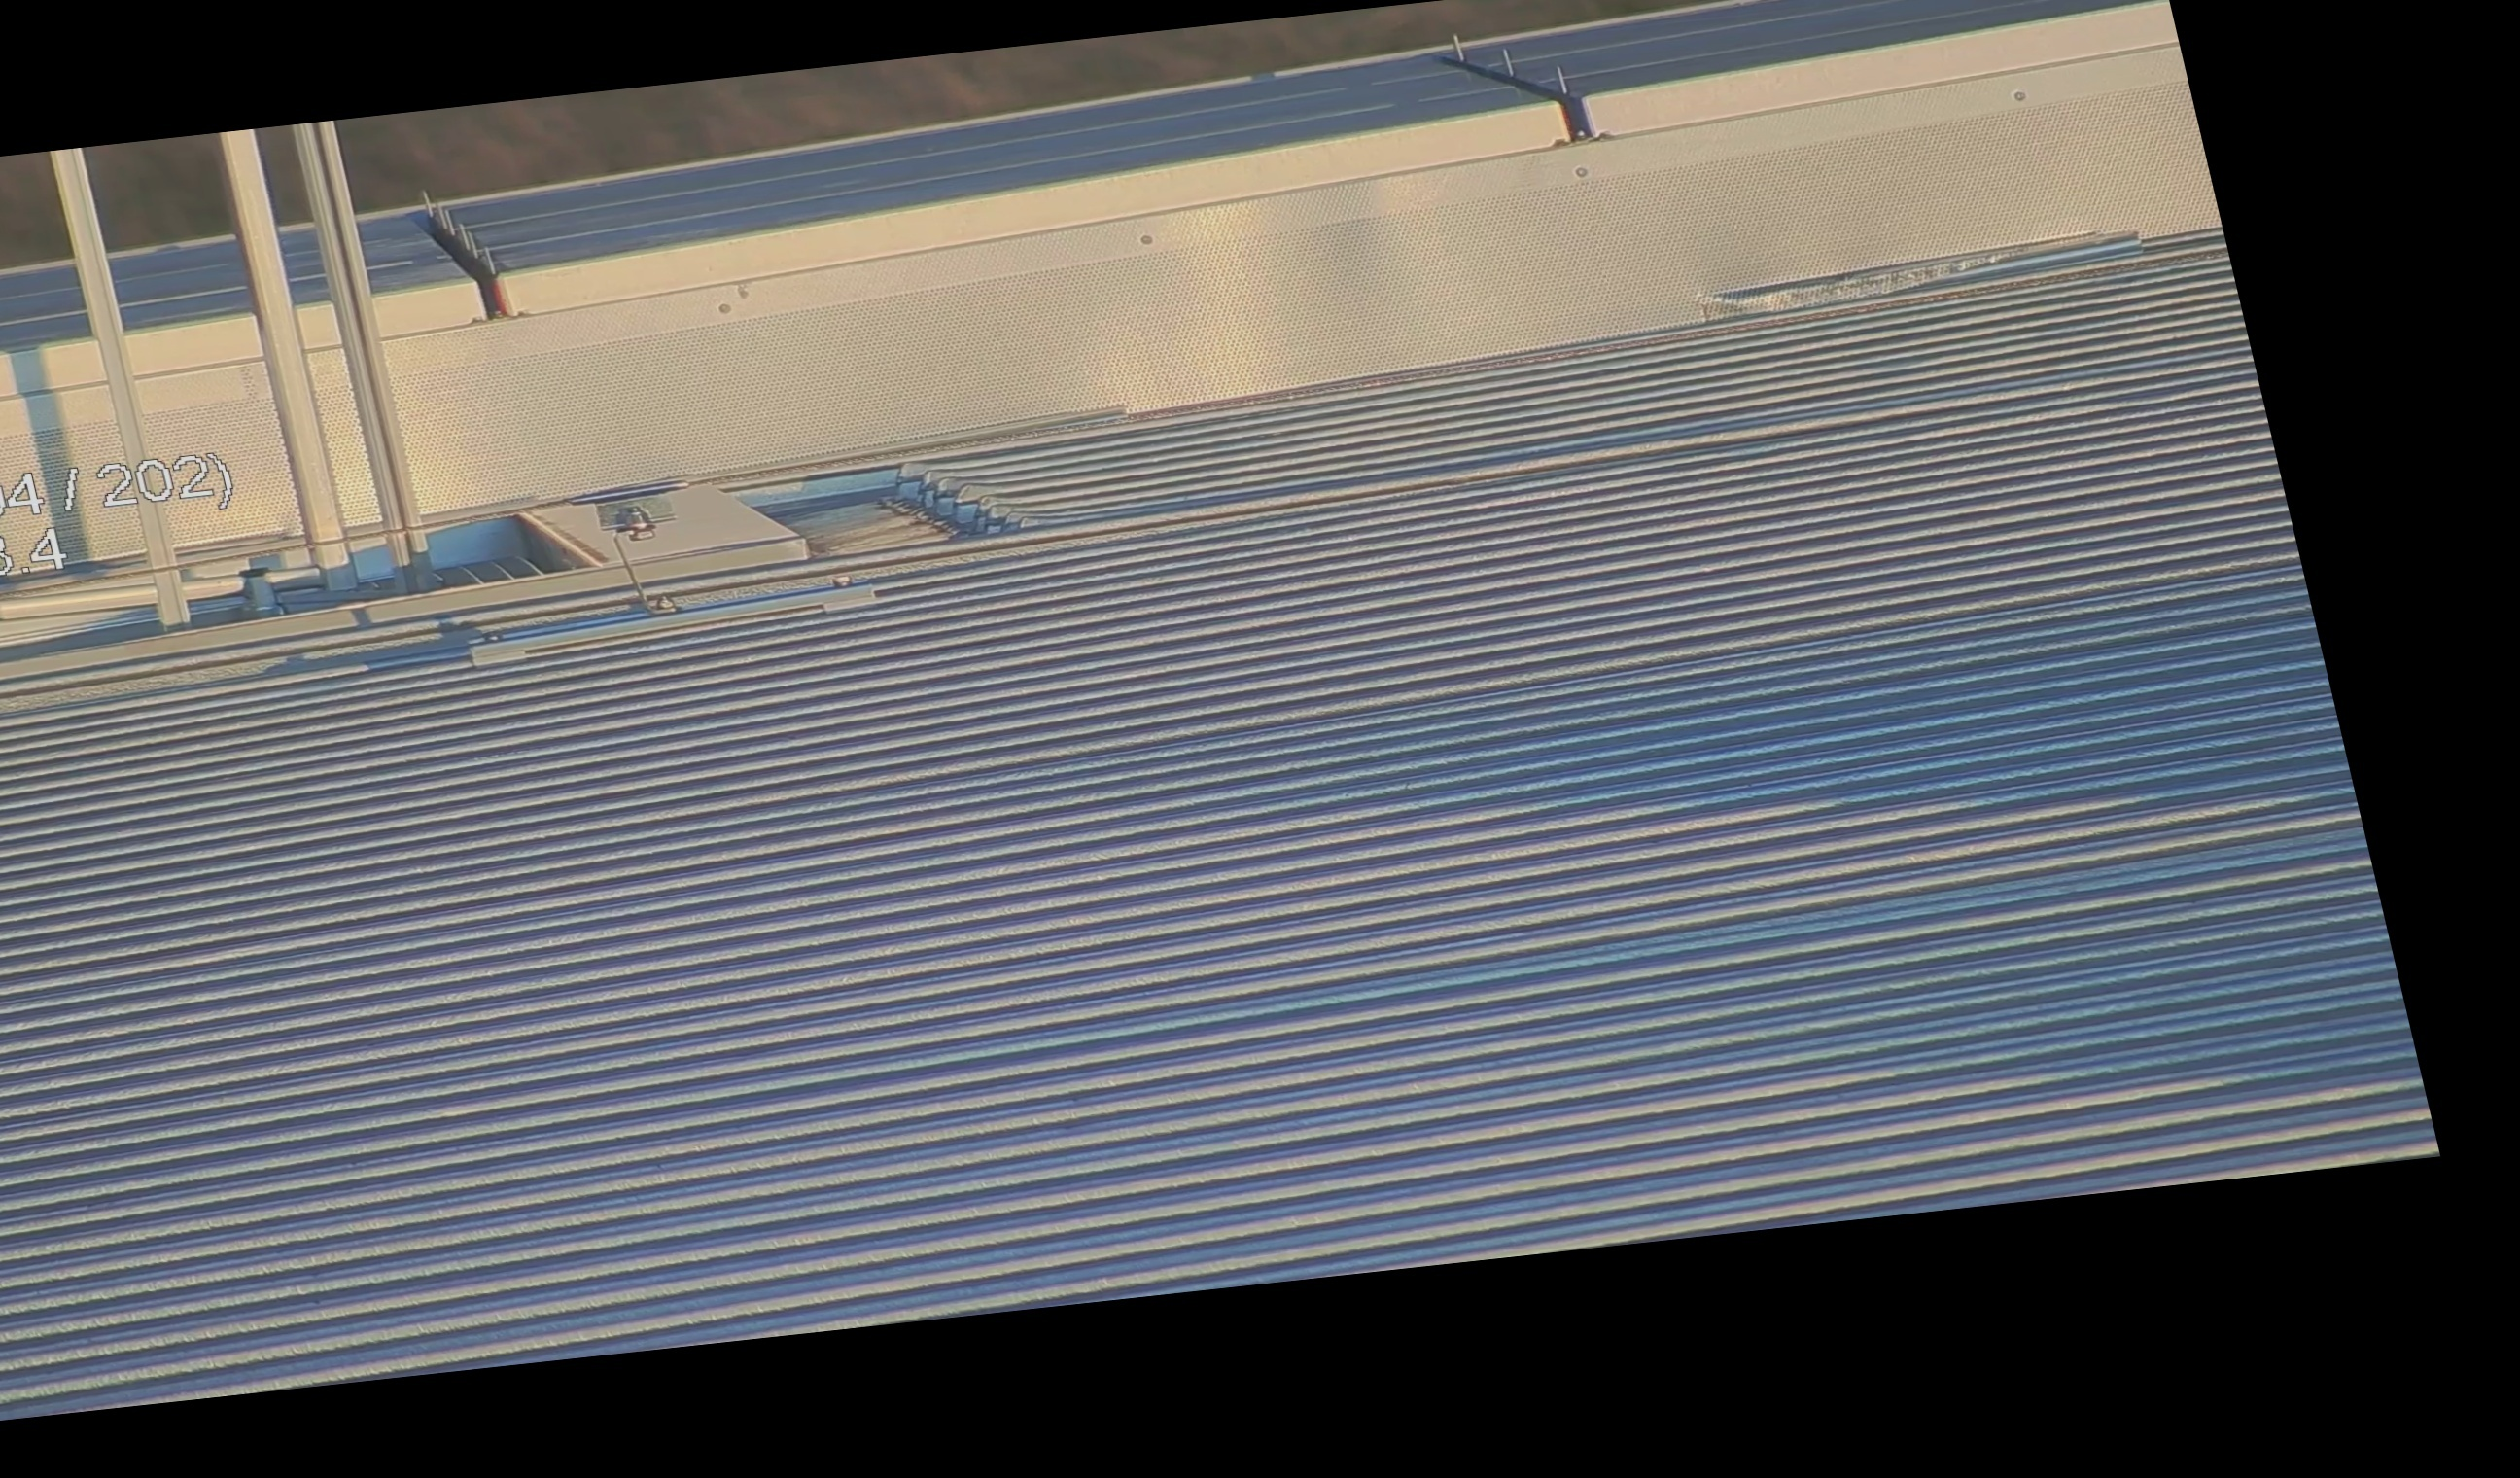Other: (389, 181, 531, 331)
